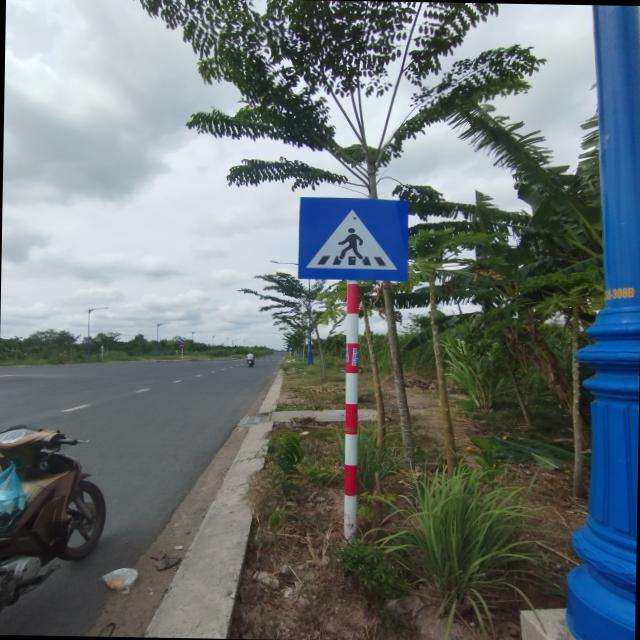Giao_Nhau_Duong_Uu_Tien: (298, 196, 410, 280)
